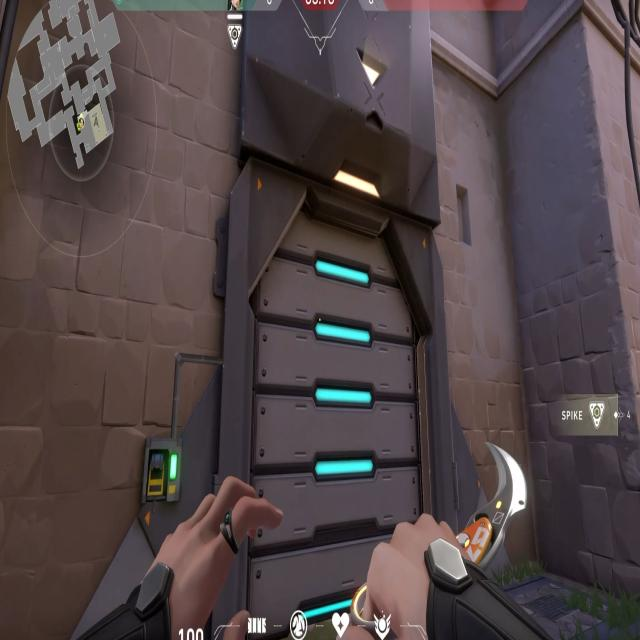A_Door: (244, 150, 440, 640)
